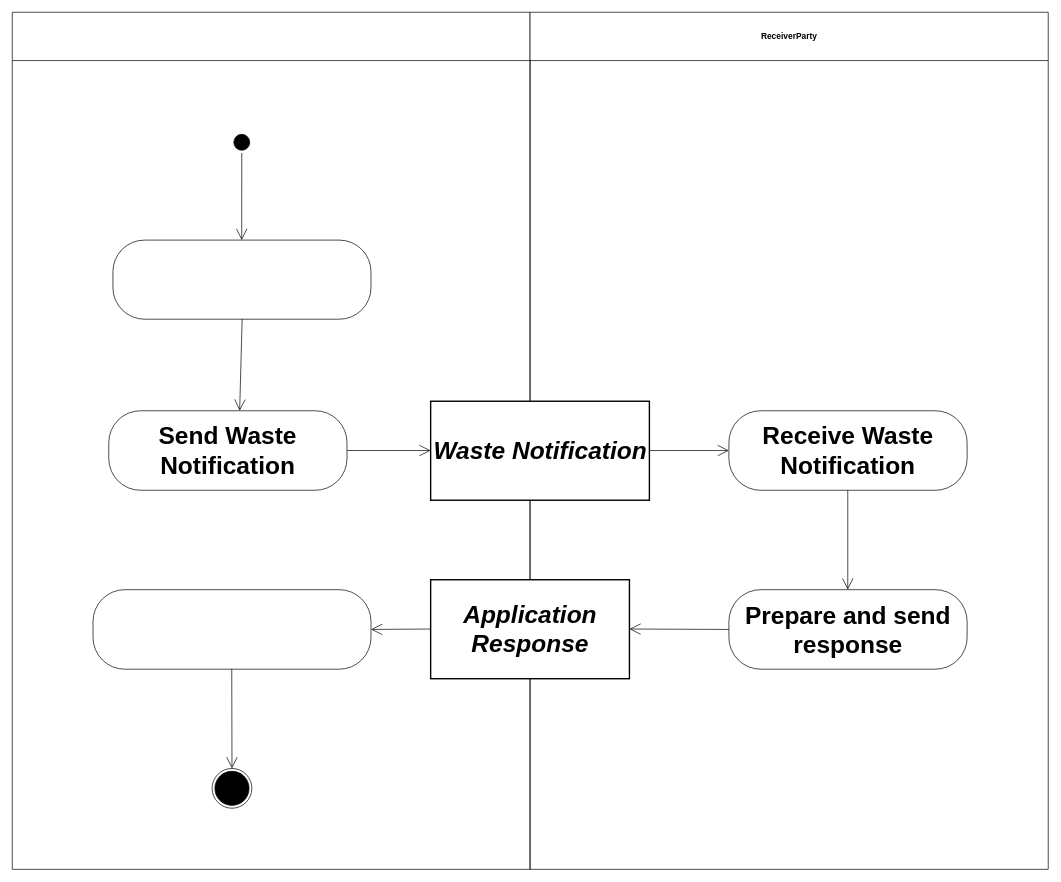
The diagram is 1061 pixels wide and 882 high, and some of its shapes have lost their labels. Here are the shapes that lost their labels. From the top down, the box of each, then its label:
(112, 239, 371, 319): Prepare notification of waste movement
(12, 12, 530, 869): Senderparty
(92, 589, 371, 669): Receive Waste Notification Response
